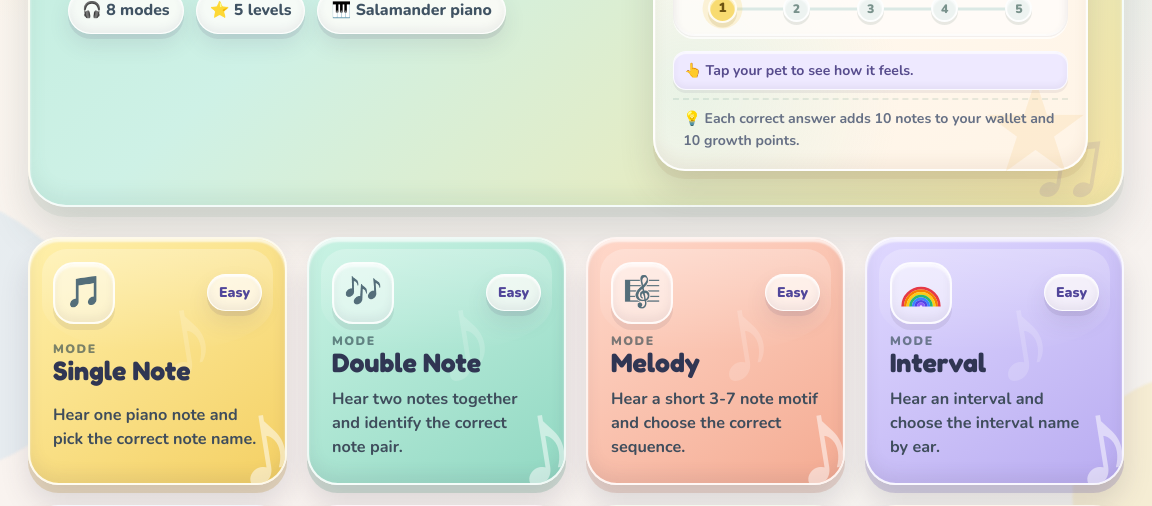
PerfectPitchApp › restores saved session stats from local storage on load
(page scrolled)
Click the button "Single Note".
click(158, 361)  # box [28, 237, 287, 485]
(page scrolled)
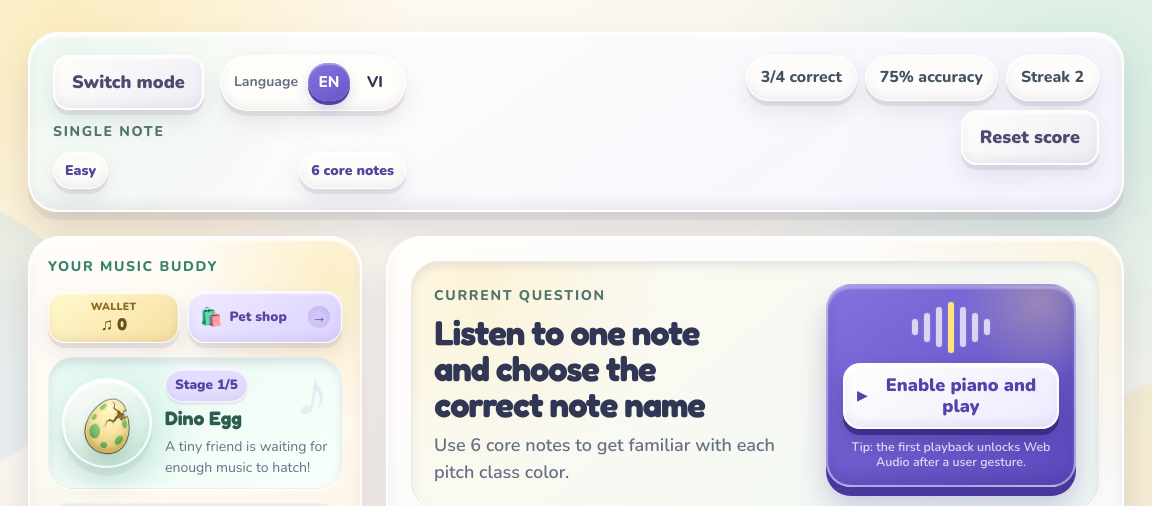
Now the text "3/4 correct" is shown, box [746, 55, 857, 101]
Now the text "75% accuracy" is shown, box [865, 55, 998, 101]
Now the text "Streak 2" is shown, box [1006, 55, 1099, 101]
